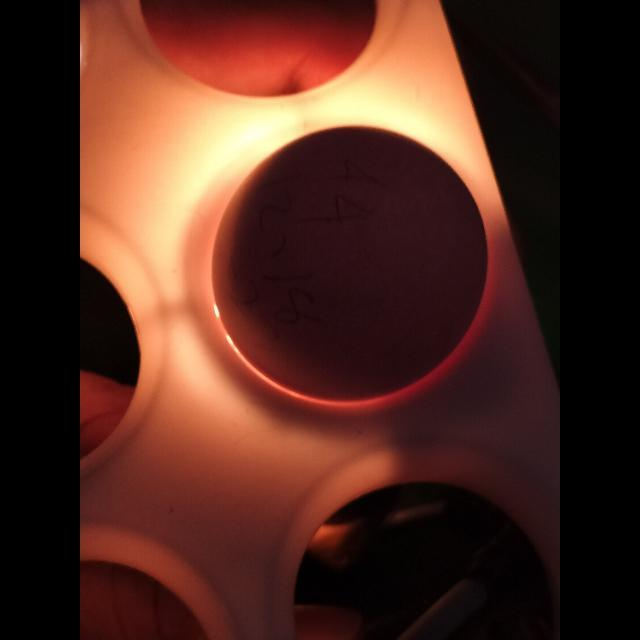Fertile: (200, 119, 474, 404)
